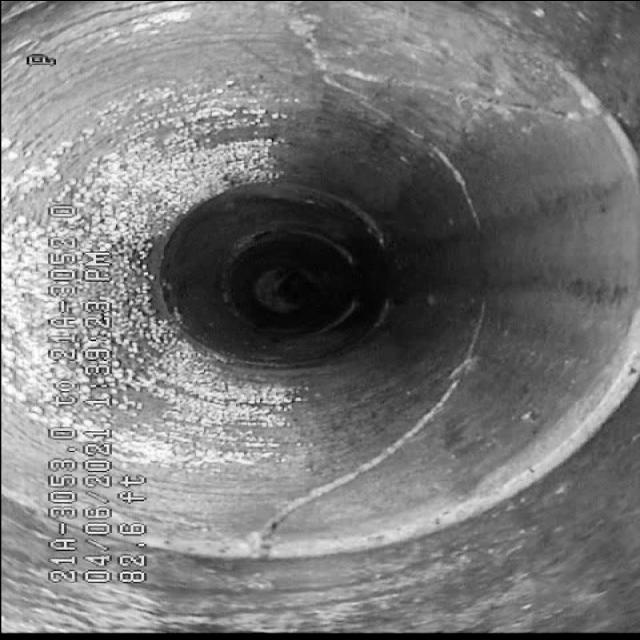Fracture: (235, 390, 462, 528), (299, 50, 532, 166)
